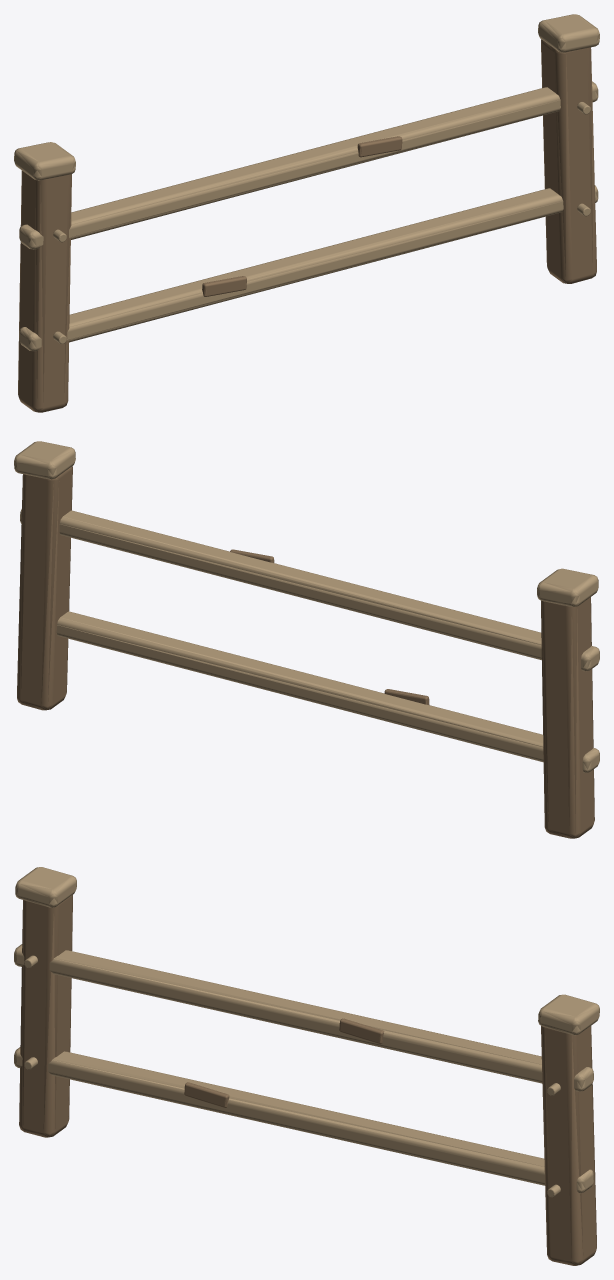
File: SM_FenceSegment.fbx
The picture shows the model from 3 angles, top to bottom: view 1: azimuth 30°, elevation 25°; view 2: azimuth 150°, elevation 25°; view 3: azimuth 330°, elevation 25°; orthographic projection.
Parts seen in each view (by area): view 1: SM_FenceSegment; view 2: SM_FenceSegment; view 3: SM_FenceSegment.
Boxes of the visible parts, x1,y1,x2,y2 form: SM_FenceSegment: (14, 14, 599, 412); SM_FenceSegment: (14, 441, 599, 838); SM_FenceSegment: (14, 867, 599, 1265).
Size of the model in its own units: 305 by 28.4 by 130.
